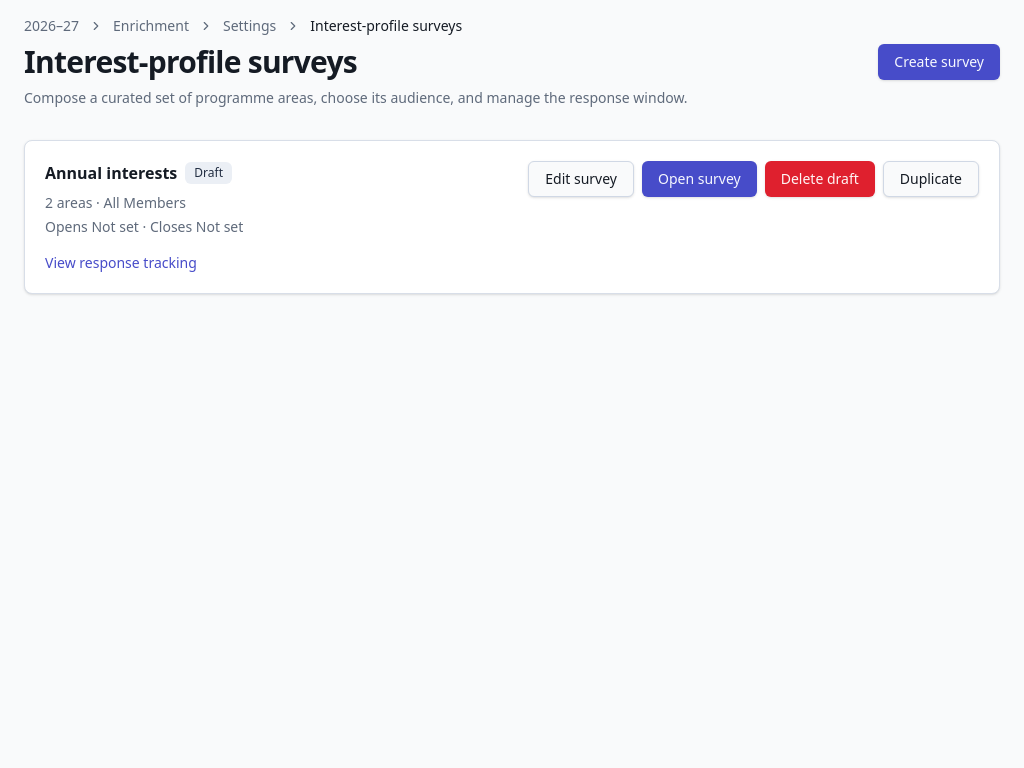
Test: InterestProfileSurveysPage › opens a draft with a closing time and surfaces empty-audience warnings
The width and height of the screenshot is (1024, 768).
Click the button "Open survey" at (699,179), box [642,161,757,197]
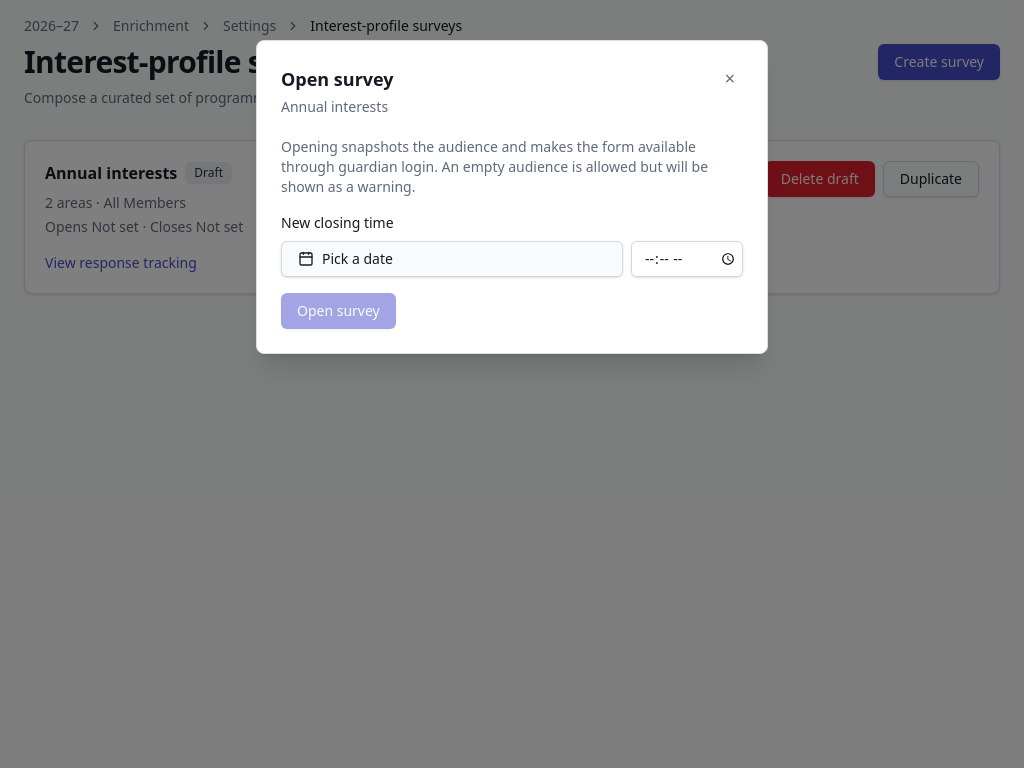
Replace the text in the field labelled "New closing time" with "2026-10-10T10:00" at (512,245), box [281,213,743,277]
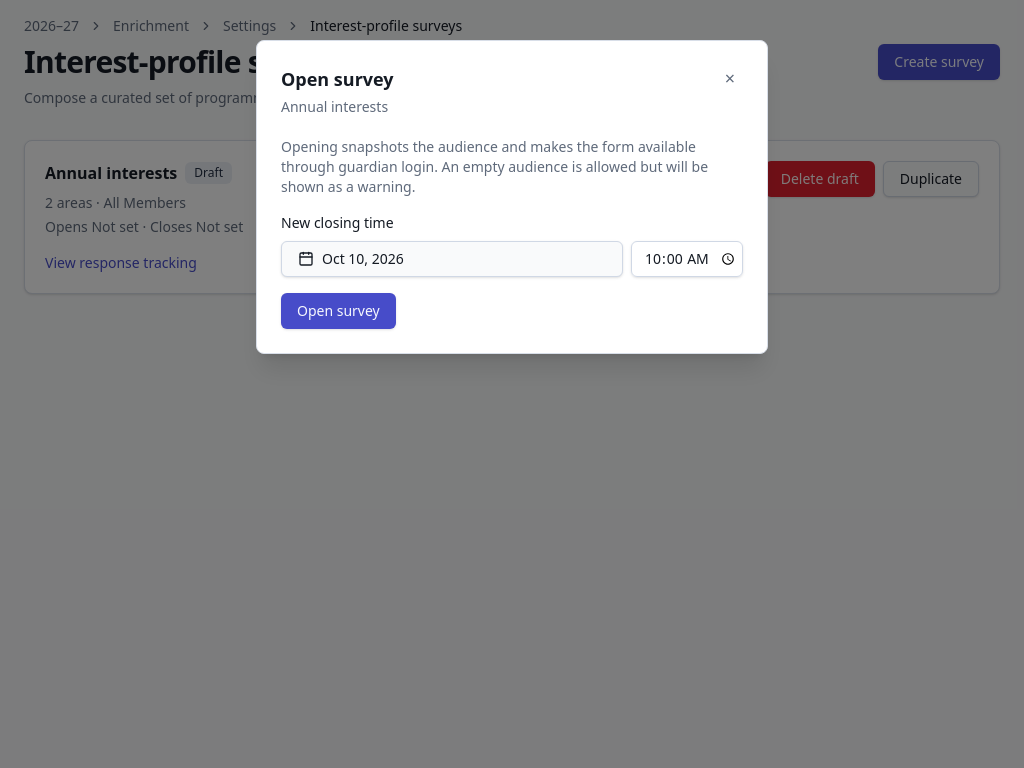
Click the button "Open survey" at (338,311), box [281,293,396,329]
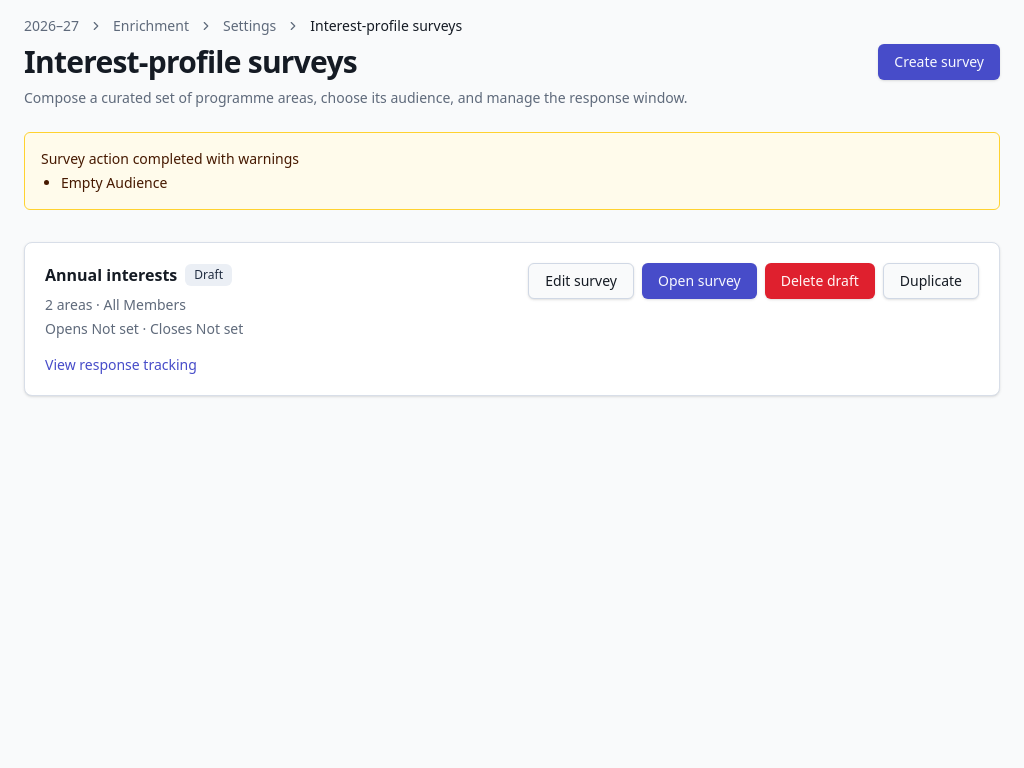
expect the list item "Empty Audience" is shown: met, box [61,173,167,192]
expect the text "Survey action completed with warnings" is shown: met, box [41,149,299,168]
